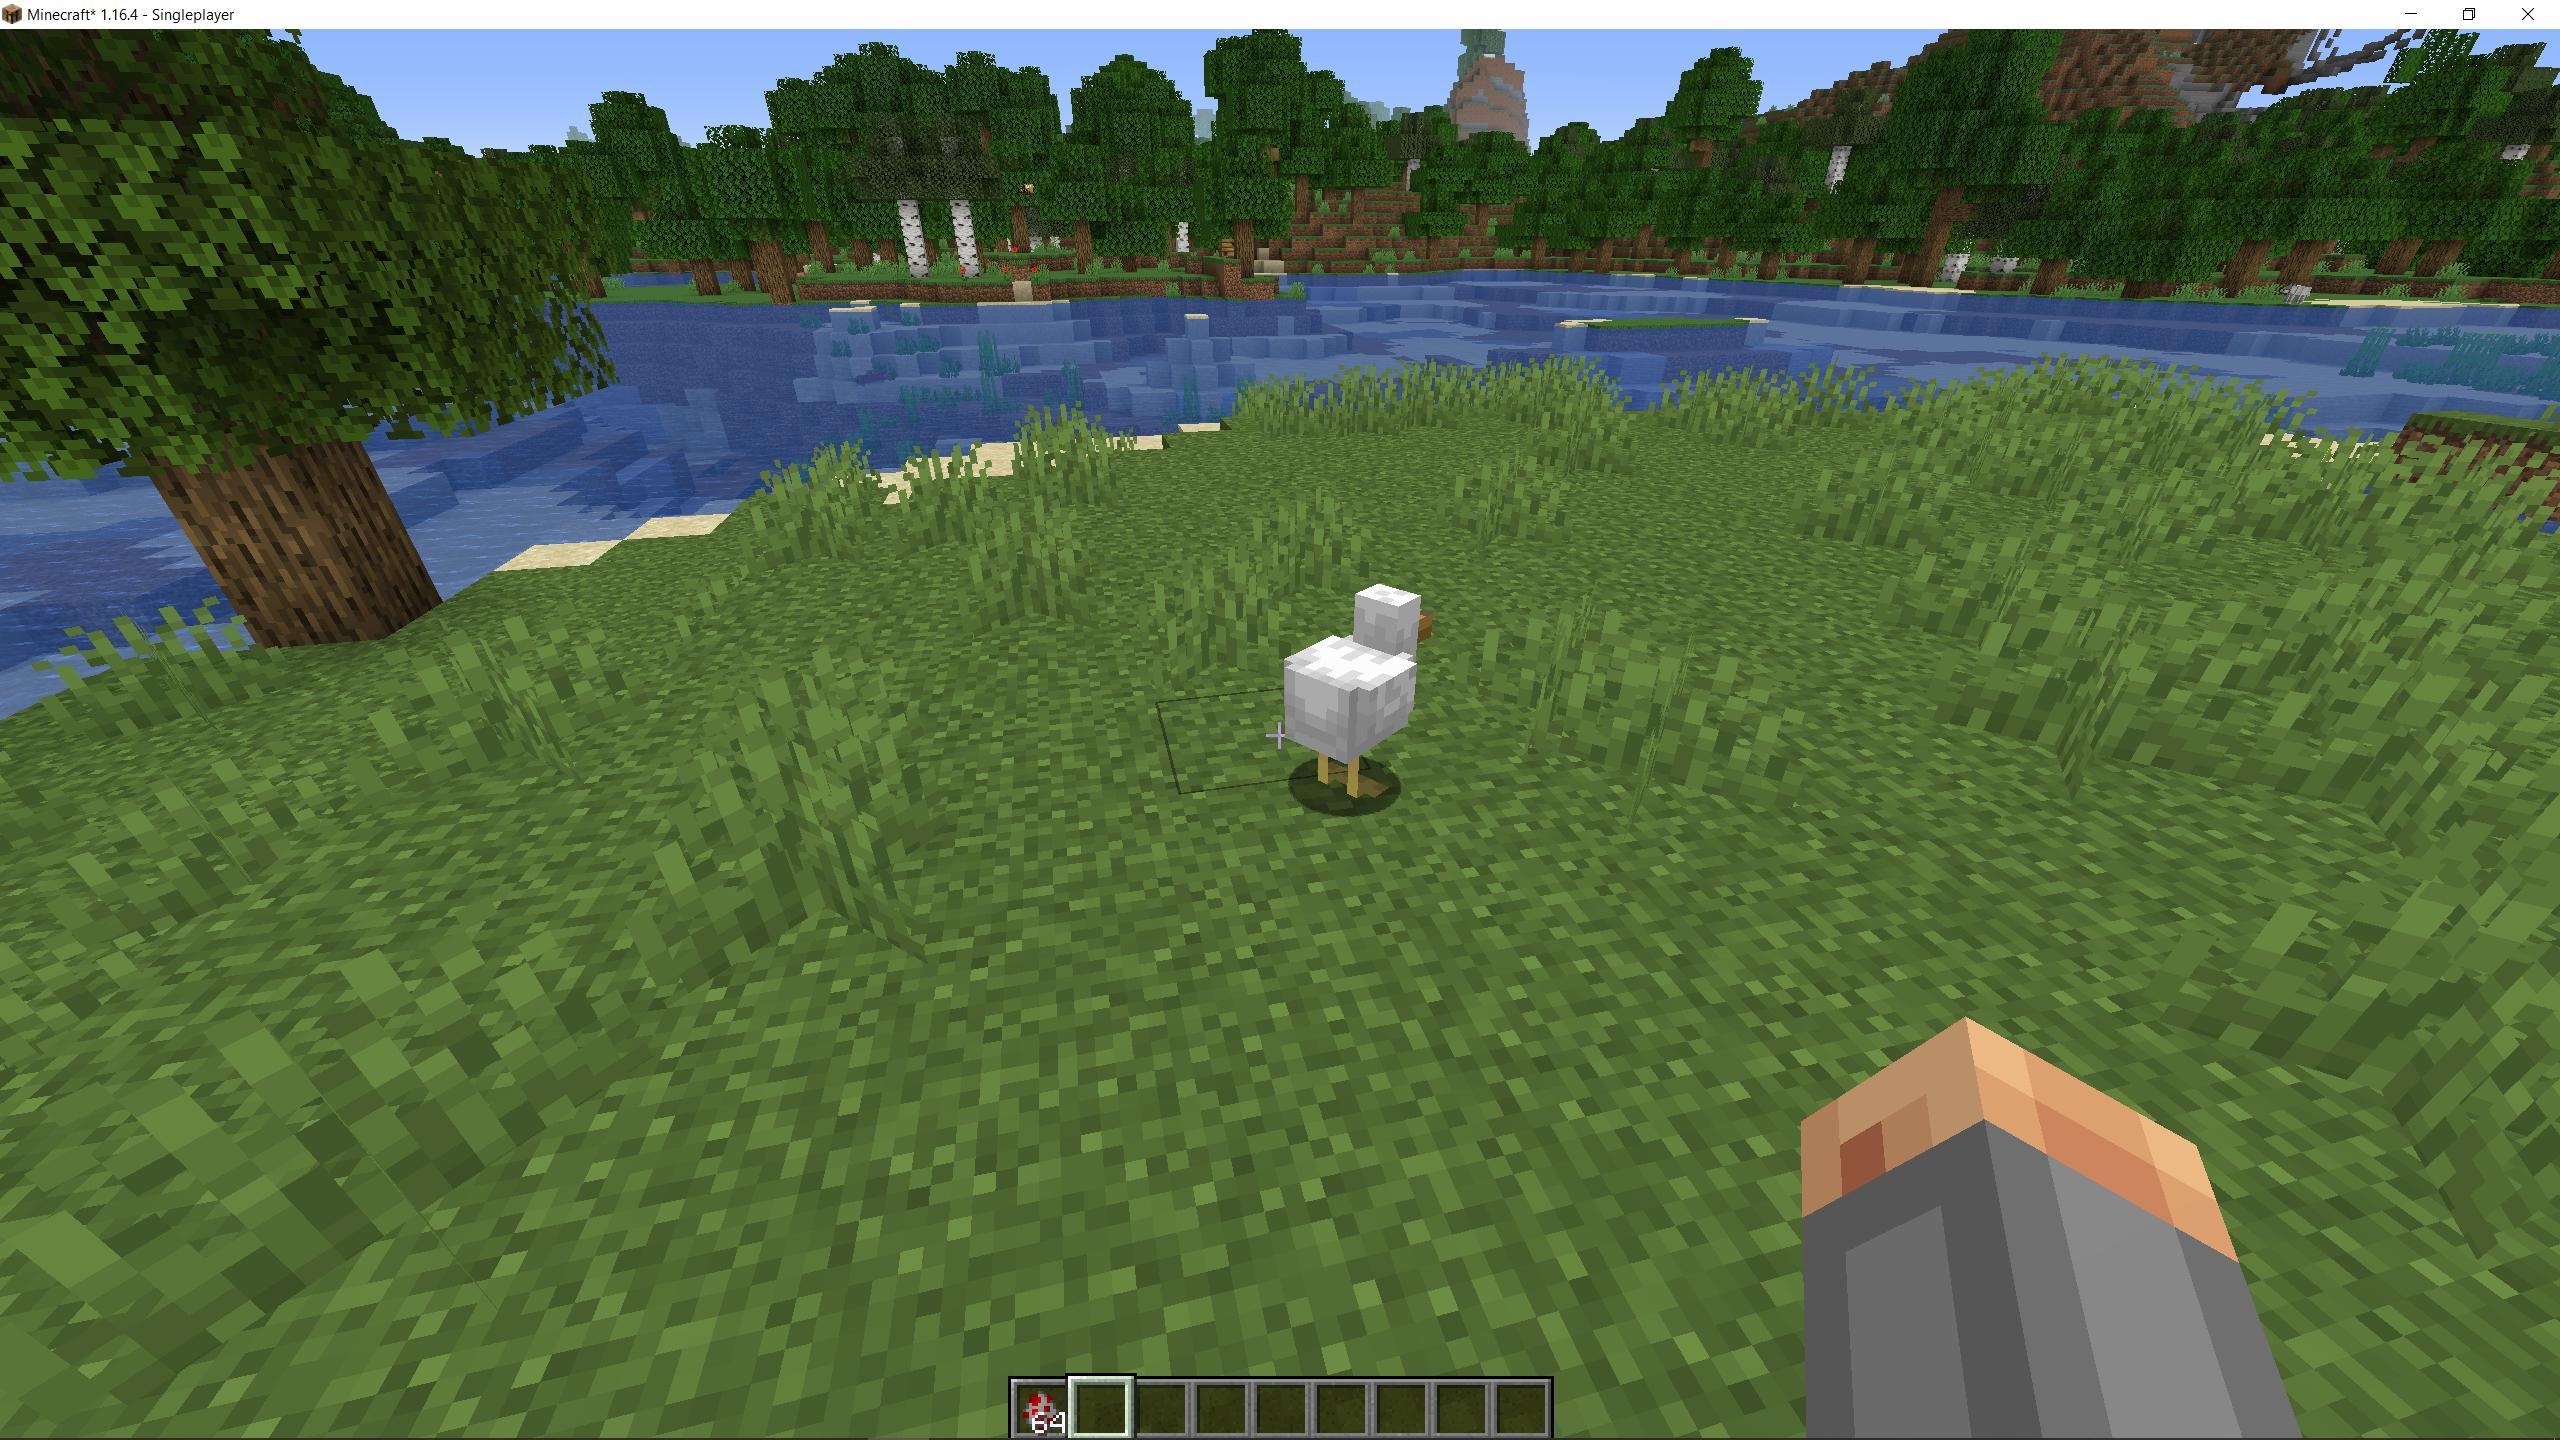chicken: (1276, 577, 1445, 819)
